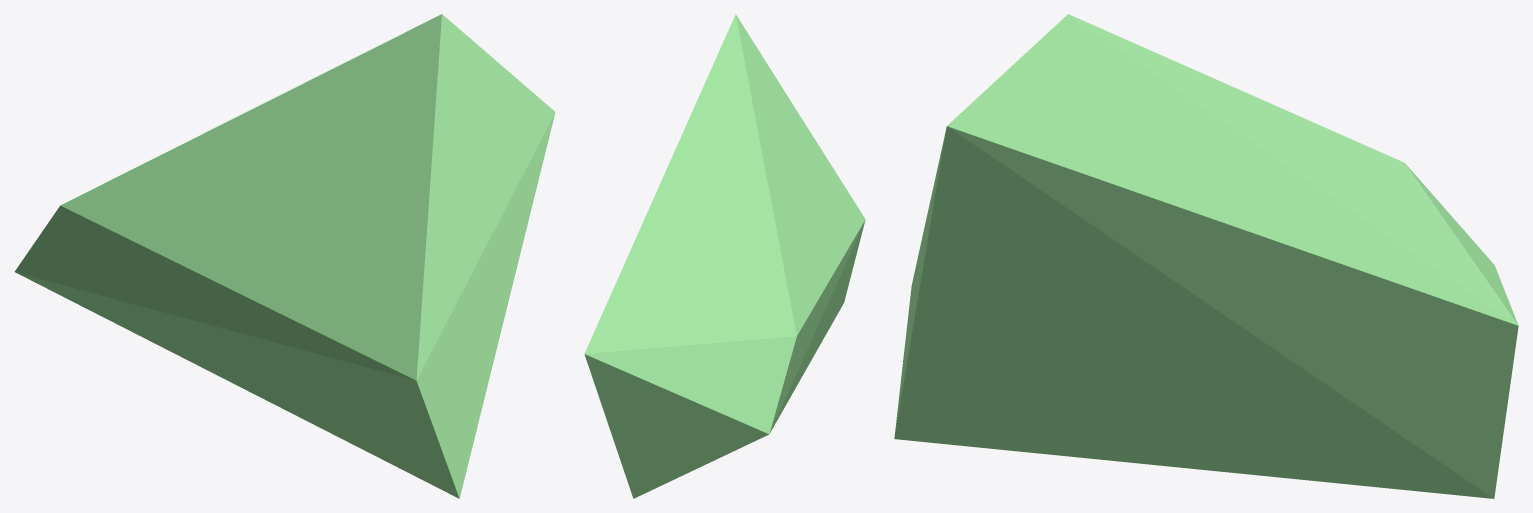
File: dvkr_robot_L3_respondable_ECM_coll_5.dae
The picture shows the model from 3 angles, left to right: view 1: azimuth 30°, elevation 25°; view 2: azimuth 150°, elevation 25°; view 3: azimuth 270°, elevation 25°; orthographic projection. The views are drawn at different scales.
Visible parts, largest first — view 1: Node_0000023514CD72A0; view 2: Node_0000023514CD72A0; view 3: Node_0000023514CD72A0.
Boxes of the visible parts, bbox=[...] form: Node_0000023514CD72A0: bbox=[14, 14, 555, 498]; Node_0000023514CD72A0: bbox=[584, 14, 865, 498]; Node_0000023514CD72A0: bbox=[894, 14, 1518, 498].
Bounding box in the file's own units: 0.0181 × 0.0275 × 0.03.
